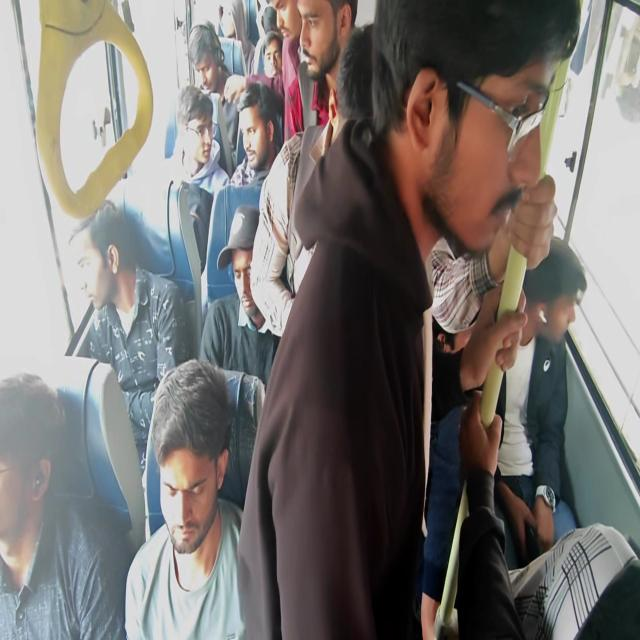person: (381, 7, 640, 330), (321, 44, 433, 242), (152, 375, 224, 630), (0, 399, 75, 640), (533, 150, 592, 396), (90, 202, 148, 361), (232, 224, 272, 356), (241, 90, 286, 200), (166, 14, 213, 104), (299, 5, 326, 99), (189, 107, 218, 194), (256, 13, 282, 96), (217, 0, 251, 54), (264, 3, 297, 54)
